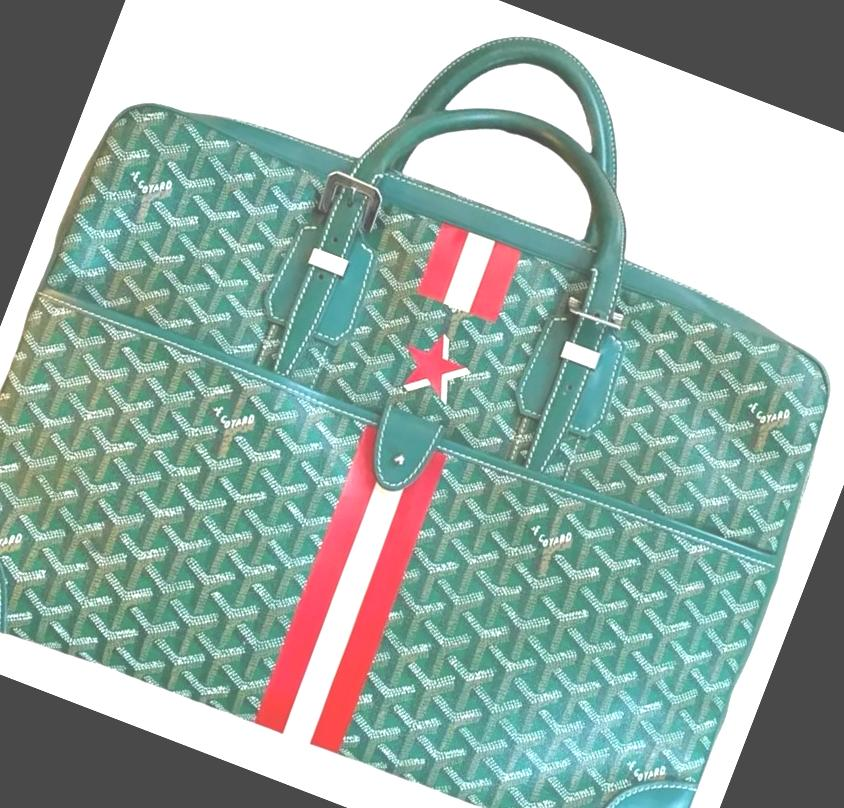GOYARD: (0, 88, 844, 808)
